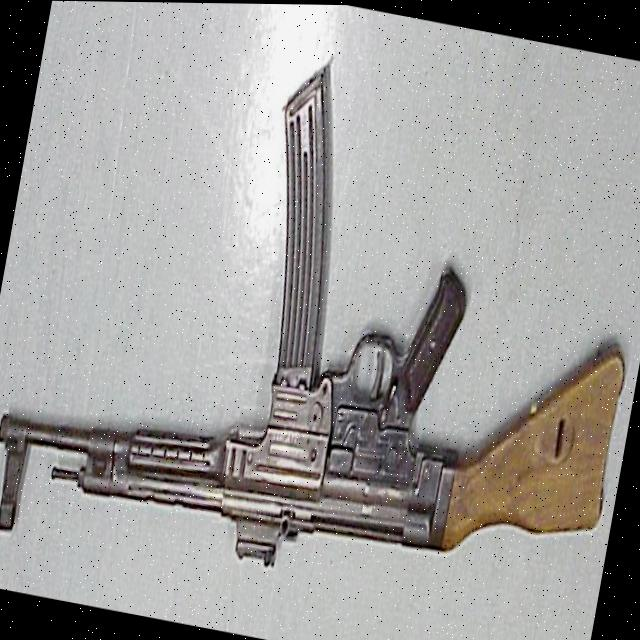firearm: (0, 12, 640, 640)
